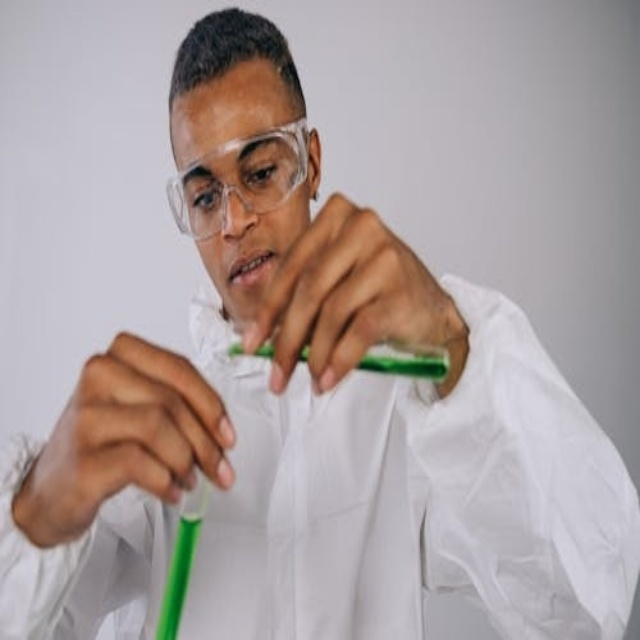Gafas: (169, 119, 312, 239)
Sin_guantes: (237, 183, 466, 404), (37, 330, 239, 537)
Sin_mascara: (225, 238, 278, 298)
